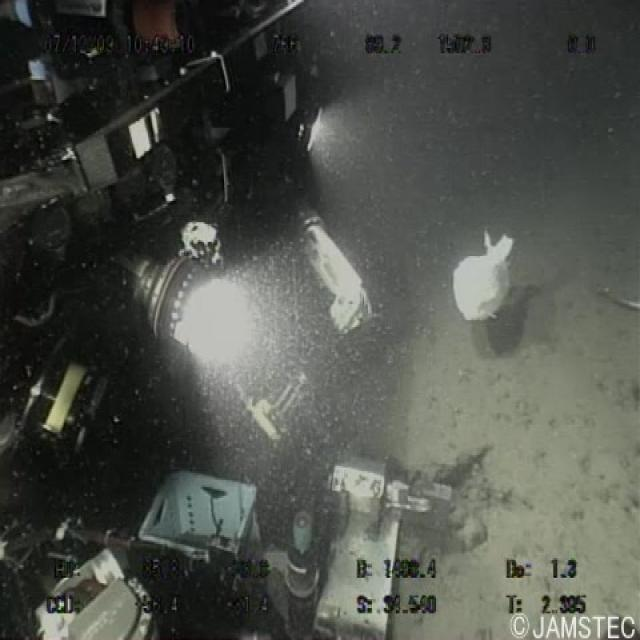plastic: (444, 221, 520, 327)
